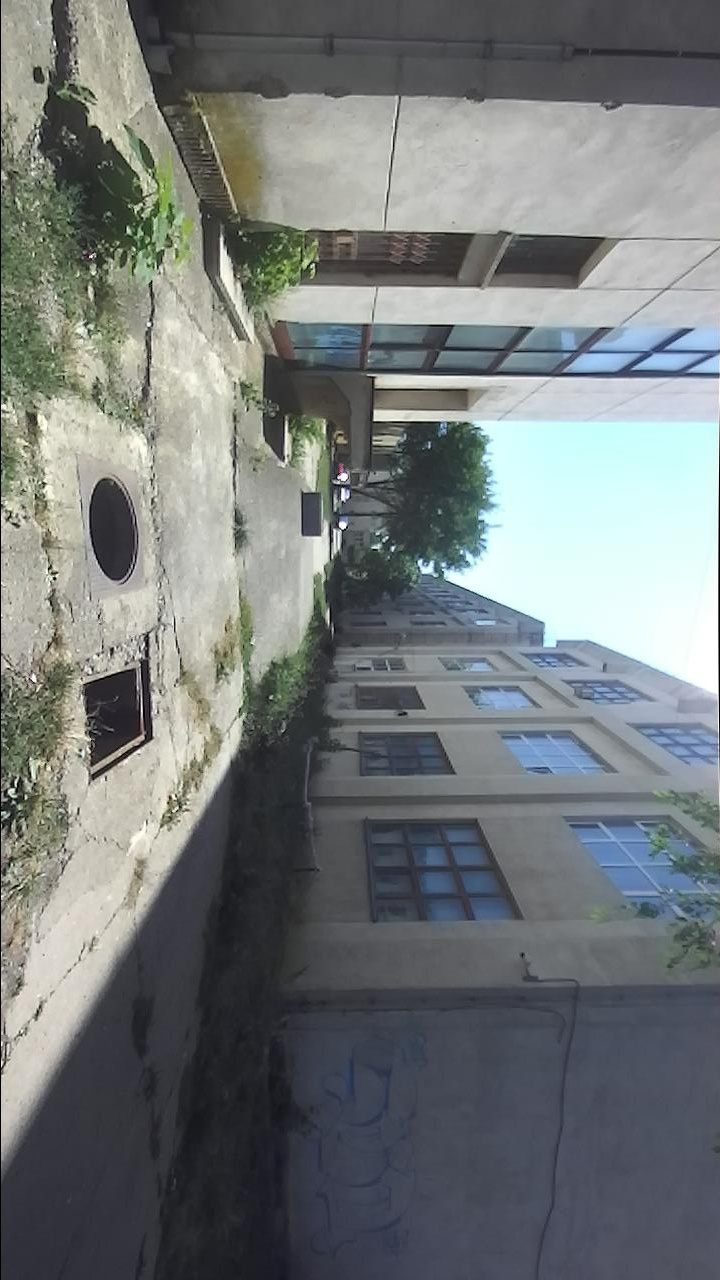drain: (76, 653, 160, 790), (85, 464, 143, 594)
